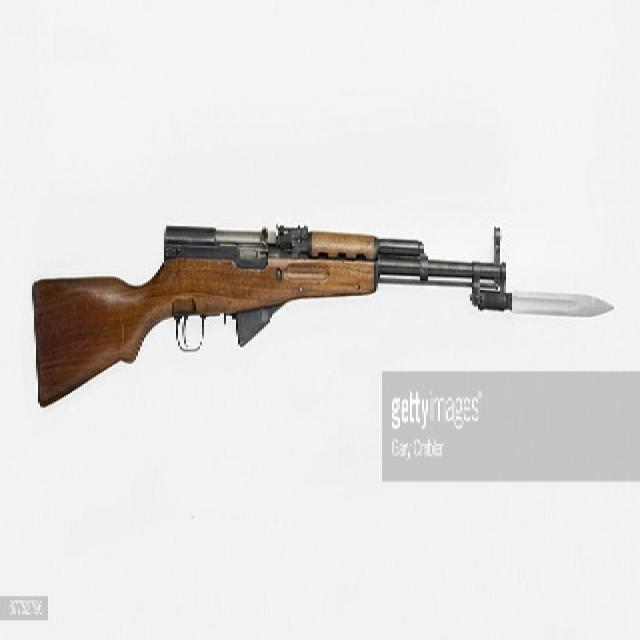weapon: (14, 202, 624, 414)
